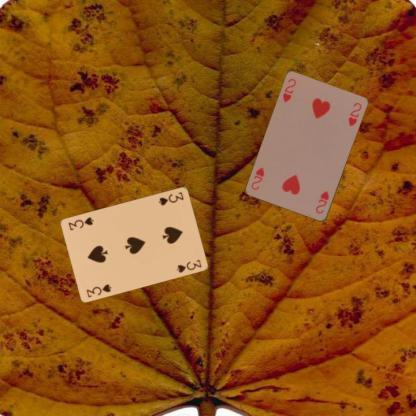2h: (280, 76, 298, 104), (313, 188, 331, 215)
3s: (156, 189, 185, 207), (84, 281, 112, 299)
